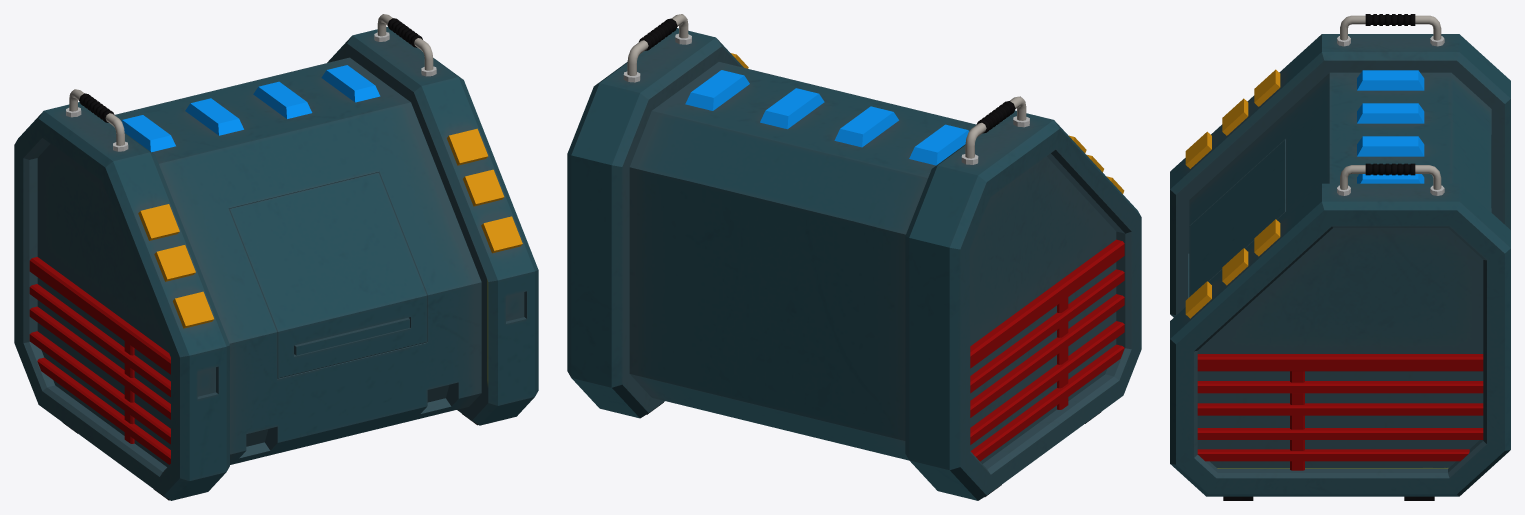
Rendered from Sci fi Machine_1.fbx.
The picture shows the model from 3 angles, left to right: view 1: azimuth 30°, elevation 25°; view 2: azimuth 150°, elevation 25°; view 3: azimuth 270°, elevation 25°; orthographic projection. The views are drawn at different scales.
Visible parts, largest first — view 1: Sci fi Machine_1; view 2: Sci fi Machine_1; view 3: Sci fi Machine_1.
Boxes of the visible parts, x1,y1,x2,y2 form: Sci fi Machine_1: (14, 14, 538, 500); Sci fi Machine_1: (567, 14, 1141, 500); Sci fi Machine_1: (1170, 14, 1510, 500).
Size of the model in its own units: 91.38 by 81.17 by 75.72.
